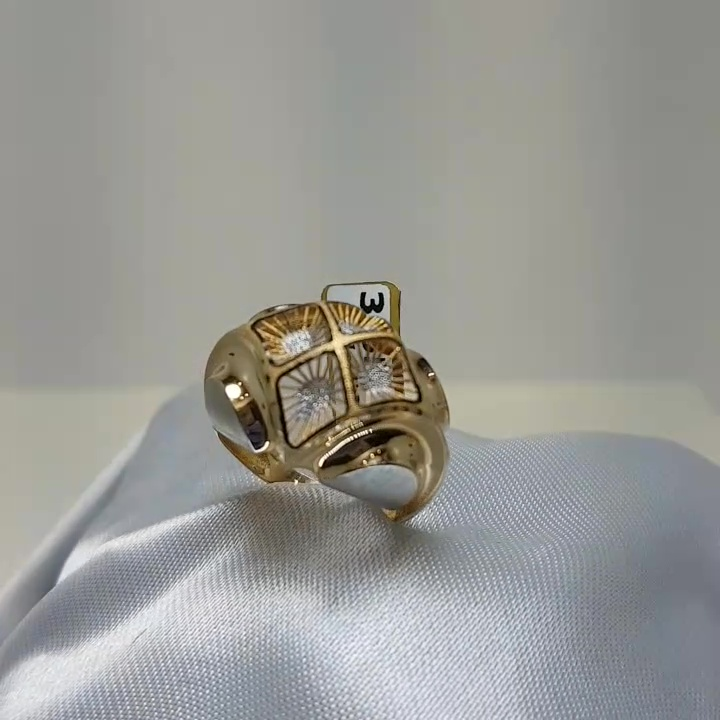Ring 2: (189, 280, 465, 548)
